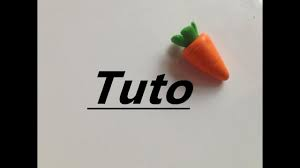carrot: (177, 32, 233, 92)
